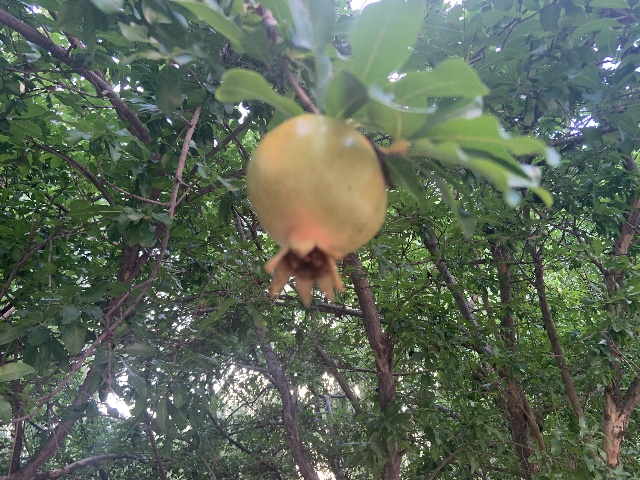mid-growth: (245, 114, 388, 309)
